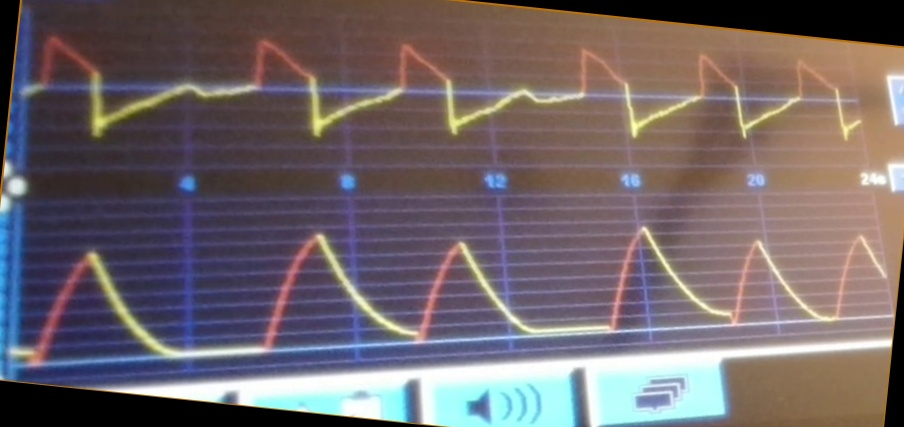Ineffective_effort Flow: (31, 30, 857, 152)
Ineffective_effort Volume: (18, 225, 884, 372)
